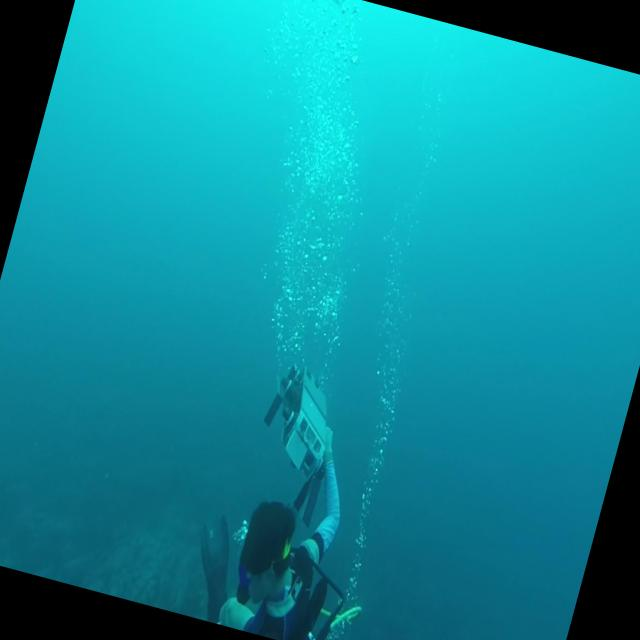human: (177, 349, 416, 640)
